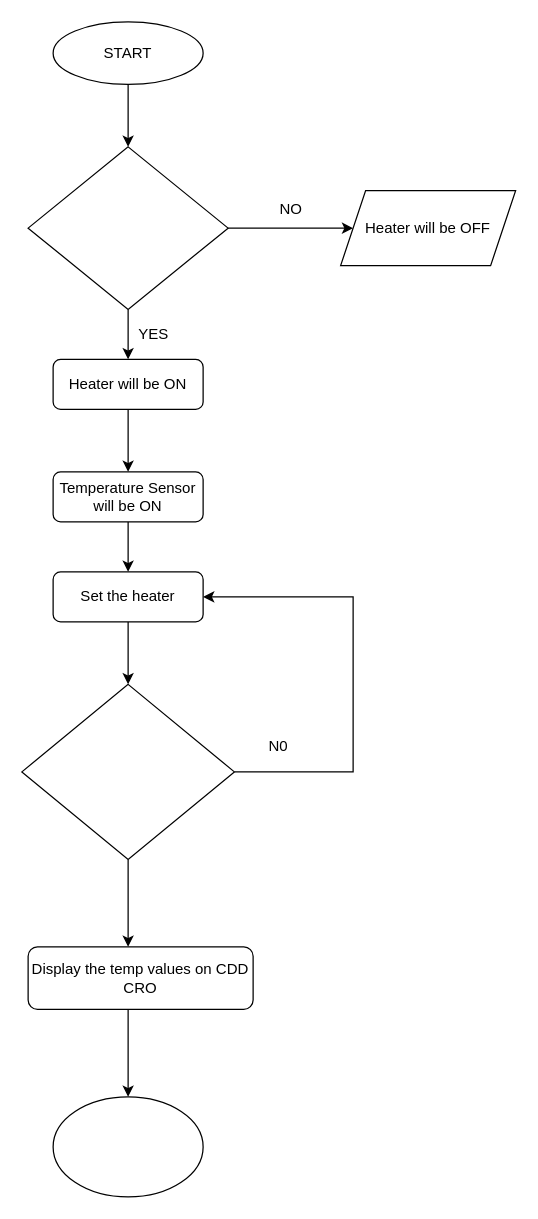
Image size: 538x1219. Some labels were removed from this diagram. Each missing label, with the box of its shape:
Check If user temp.=heater temp?: (21, 683, 234, 859)
Check person is seated or not: (27, 146, 228, 309)
STOP: (52, 1096, 203, 1197)
